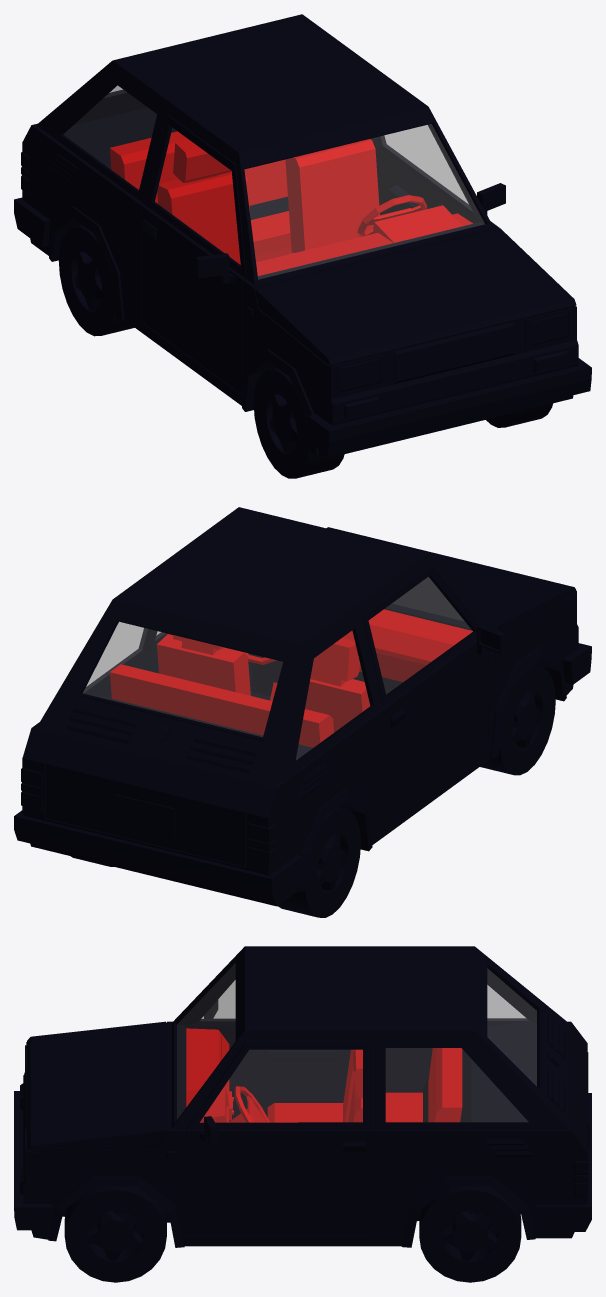
The model's file is YS_Car.glb.
3 views of the same model, one above another, from view 1: azimuth 30°, elevation 25°; view 2: azimuth 150°, elevation 25°; view 3: azimuth 270°, elevation 25° (orthographic). The views are drawn at different scales.
Parts seen in each view (by area): view 1: MICRO_CAR, WINDOWS.003, INTERIOR, DOOR L.007, GLASS.002, WHEEL_R1.001, WHEEL_R2.001, DOOR R.008, GLASS.001, WHEEL_L1.001; view 2: MICRO_CAR, WINDOWS.003, INTERIOR, DOOR L.007, GLASS.002, WHEEL_R2.001, WHEEL_R1.001; view 3: MICRO_CAR, DOOR R.008, WINDOWS.003, INTERIOR, GLASS.001, WHEEL_L1.001, WHEEL_L2.001, DOOR L.007, GLASS.002.
Boxes of the visible parts, x1,y1,x2,y2 form: MICRO_CAR: (14, 14, 591, 458); WINDOWS.003: (63, 85, 484, 279); INTERIOR: (110, 131, 472, 276); DOOR L.007: (141, 115, 246, 395); GLASS.002: (155, 128, 240, 264); WHEEL_R1.001: (253, 367, 344, 478); WHEEL_R2.001: (58, 225, 134, 336); DOOR R.008: (375, 124, 505, 223); GLASS.001: (381, 125, 471, 210); WHEEL_L1.001: (486, 403, 552, 427); MICRO_CAR: (14, 507, 591, 906); WINDOWS.003: (83, 577, 463, 759); INTERIOR: (110, 609, 472, 747); DOOR L.007: (362, 566, 505, 822); GLASS.002: (369, 577, 472, 694); WHEEL_R2.001: (278, 806, 360, 917); WHEEL_R1.001: (480, 664, 555, 775); MICRO_CAR: (14, 946, 591, 1247); DOOR R.008: (186, 1041, 370, 1236); WINDOWS.003: (177, 963, 536, 1121); INTERIOR: (186, 1028, 462, 1122); GLASS.001: (200, 1050, 362, 1122); WHEEL_L1.001: (64, 1186, 166, 1282); WHEEL_L2.001: (419, 1186, 521, 1282); DOOR L.007: (186, 969, 350, 1121); GLASS.002: (200, 981, 234, 1020).
Size of the model in its own units: 1.69 by 1.38 by 3.02.
3 materials, 1 textured.
